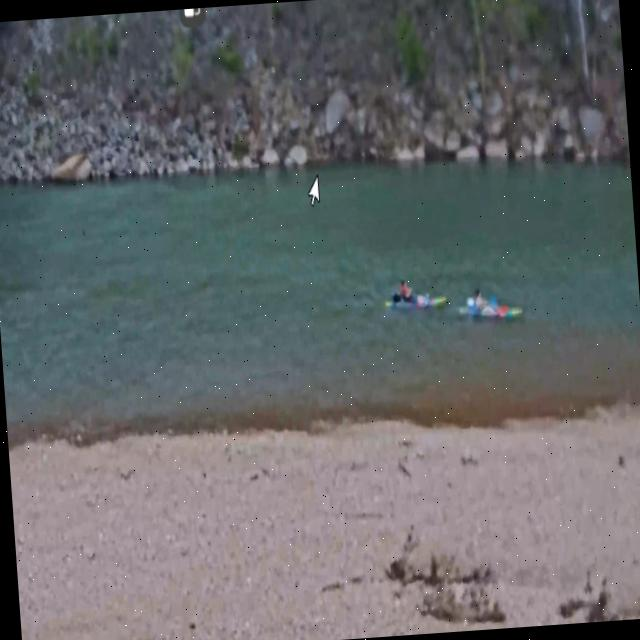kayak: (460, 290, 521, 319), (387, 280, 445, 308)
